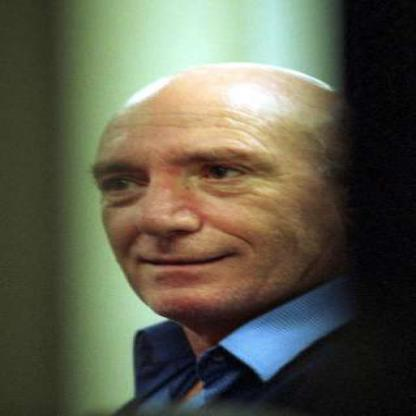face: (79, 67, 353, 328)
